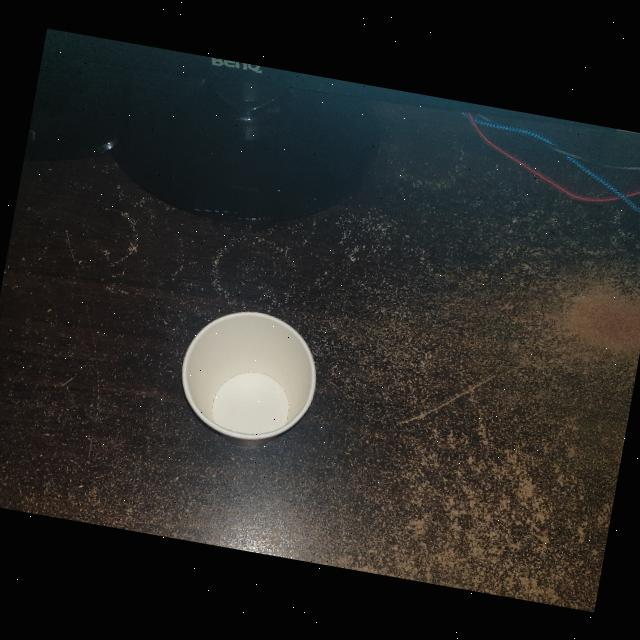trash: (162, 296, 329, 472)
